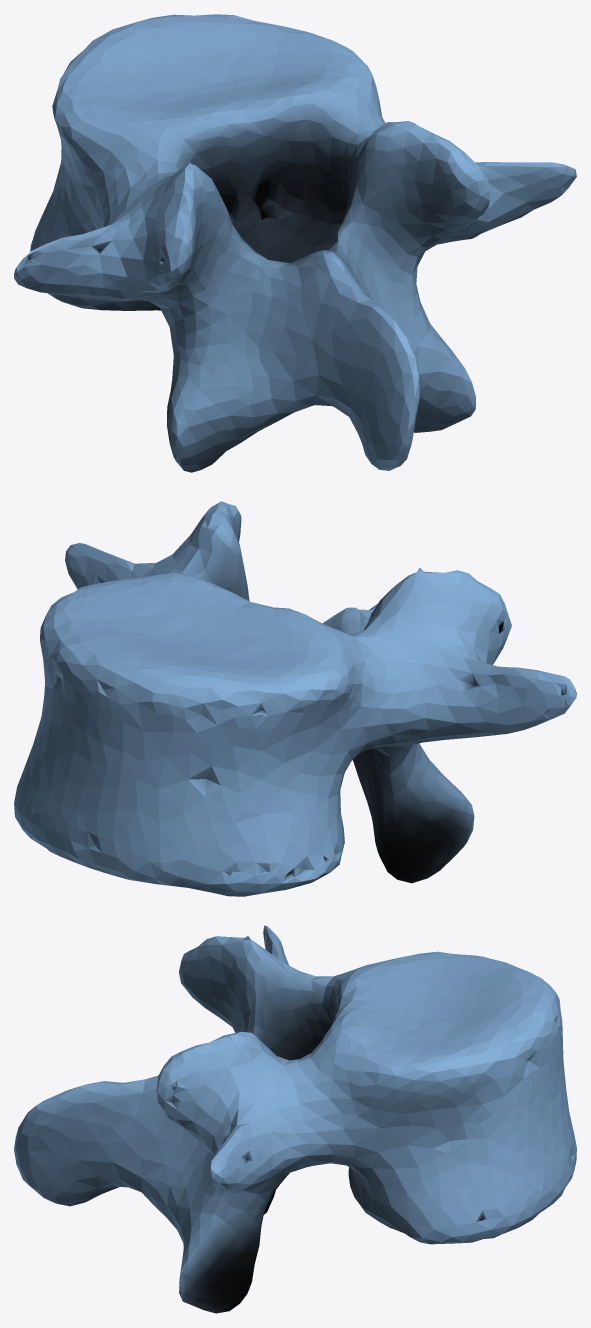
The model's file is Geometry5_lao.dae.
3 views of the same model, one above another, from view 1: azimuth 30°, elevation 25°; view 2: azimuth 150°, elevation 25°; view 3: azimuth 270°, elevation 25° (orthographic). The views are drawn at different scales.
Parts seen in each view (by area): view 1: node; view 2: node; view 3: node.
Boxes of the visible parts, box(x1,y1,x2,y2) form: node: box(14, 14, 576, 472); node: box(14, 501, 576, 896); node: box(14, 925, 576, 1313).
Size of the model in its own units: 82.69 by 46.53 by 84.33.
